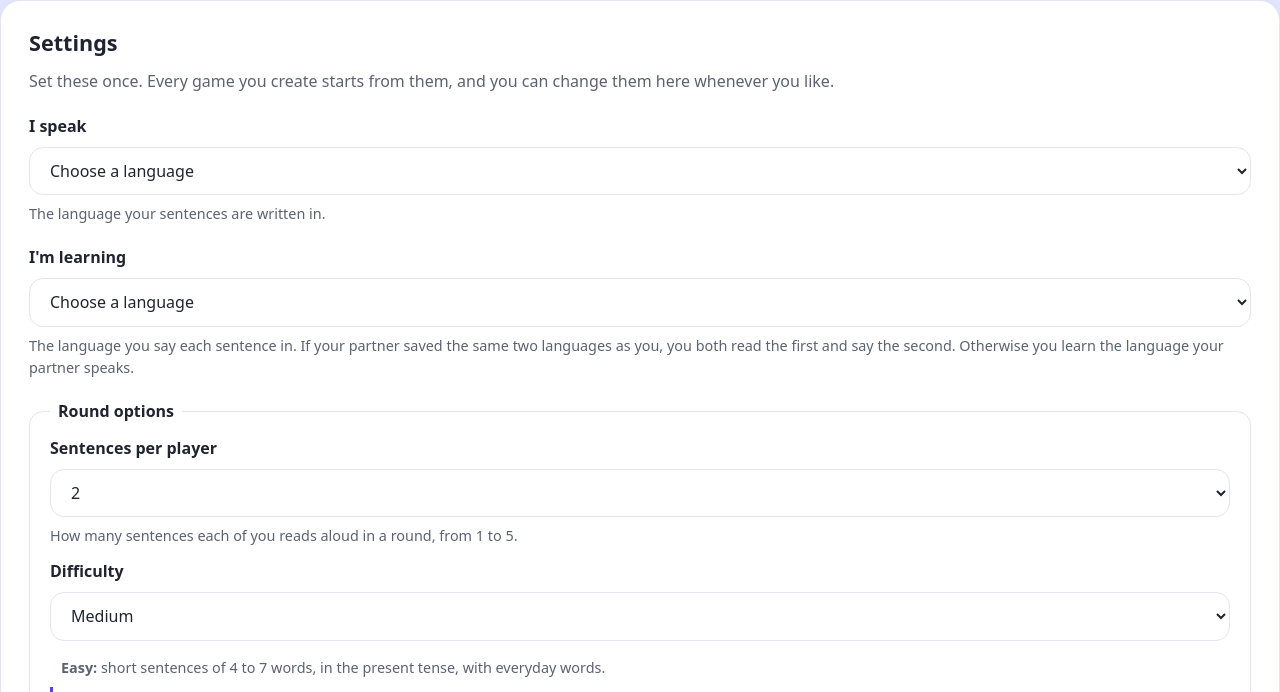
SettingsForm › says in one sentence what the chosen languages mean
This screenshot has width=1280, height=692.
Expected: the text "You will read sentences" is not shown
Select "German" in the dropdown labelled "I speak" at (640, 171), box [29,147,1251,195]
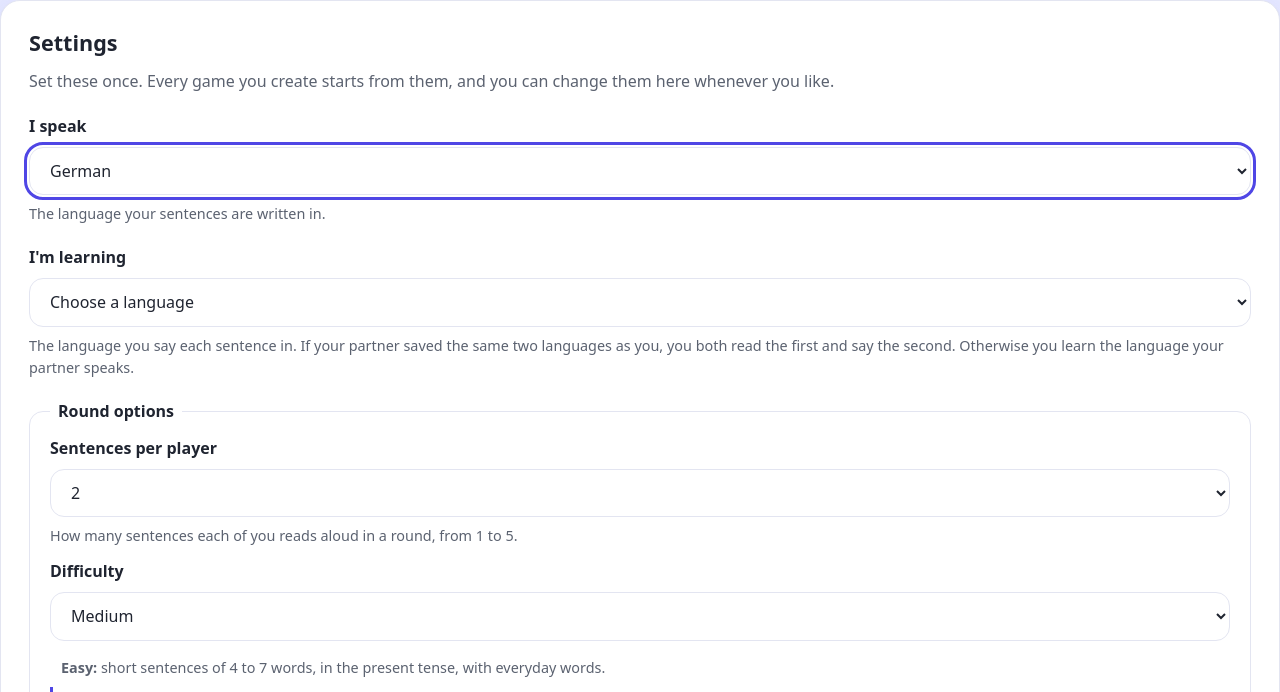
Select "English" in the dropdown labelled "I'm learning" at (640, 302), box [29,278,1251,327]
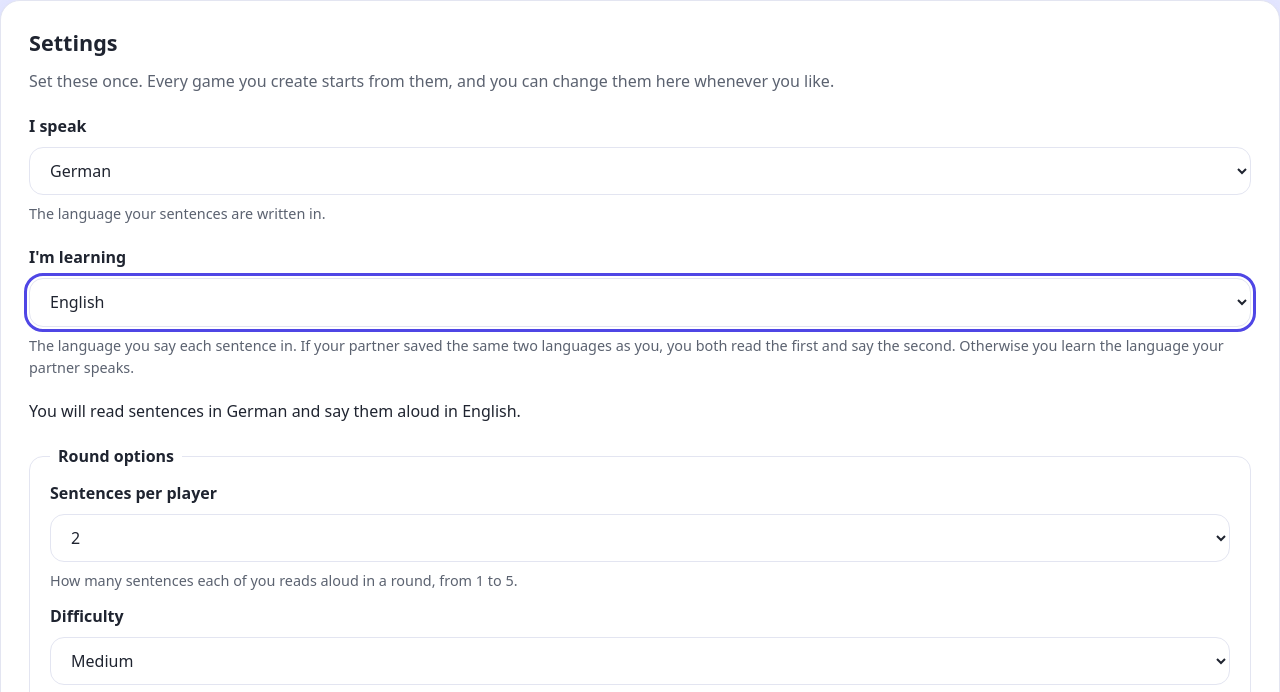
Expected: the message reads "You will read sentences in German and say them aloud in English.", [29,400,521,422]
